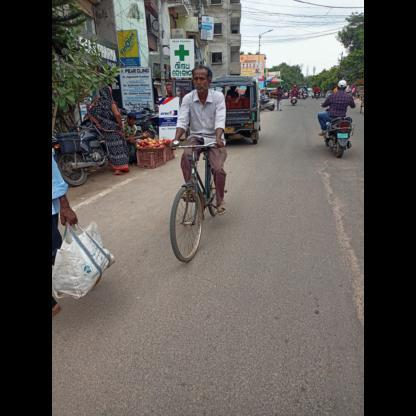Bicycle: (157, 136, 242, 268)
